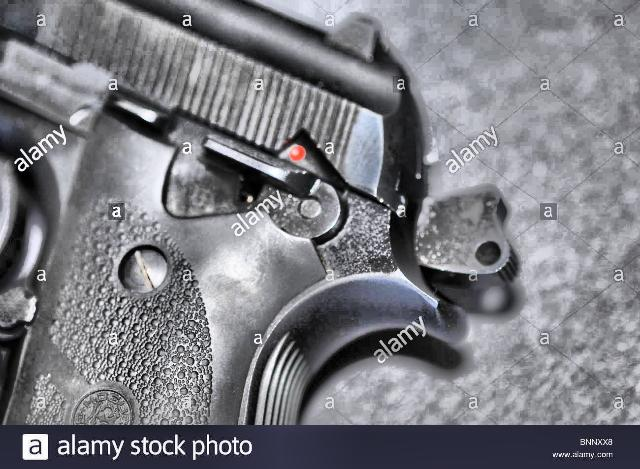pistol: (1, 1, 516, 425)
